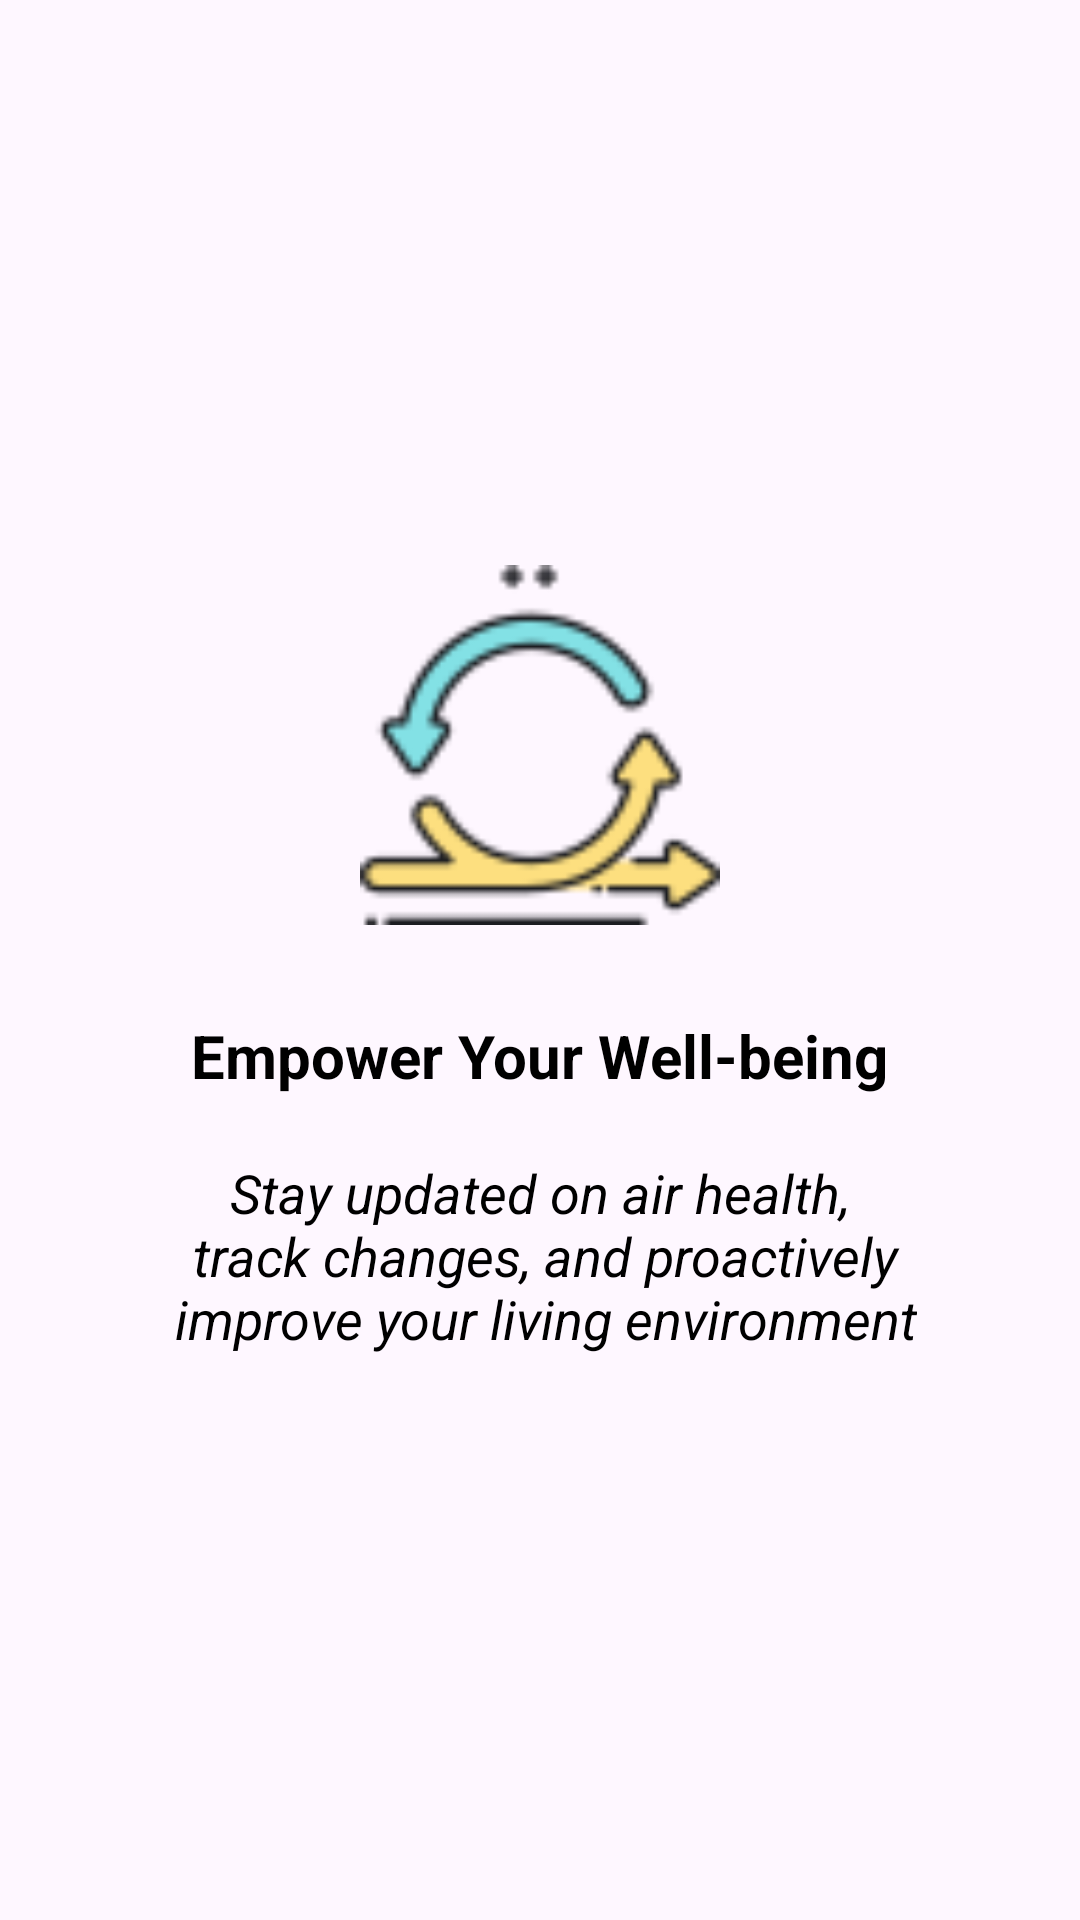

Named icons in this screenshot (1080 x 1920) and their centers, [x,y]:
proactive: [540,745]
